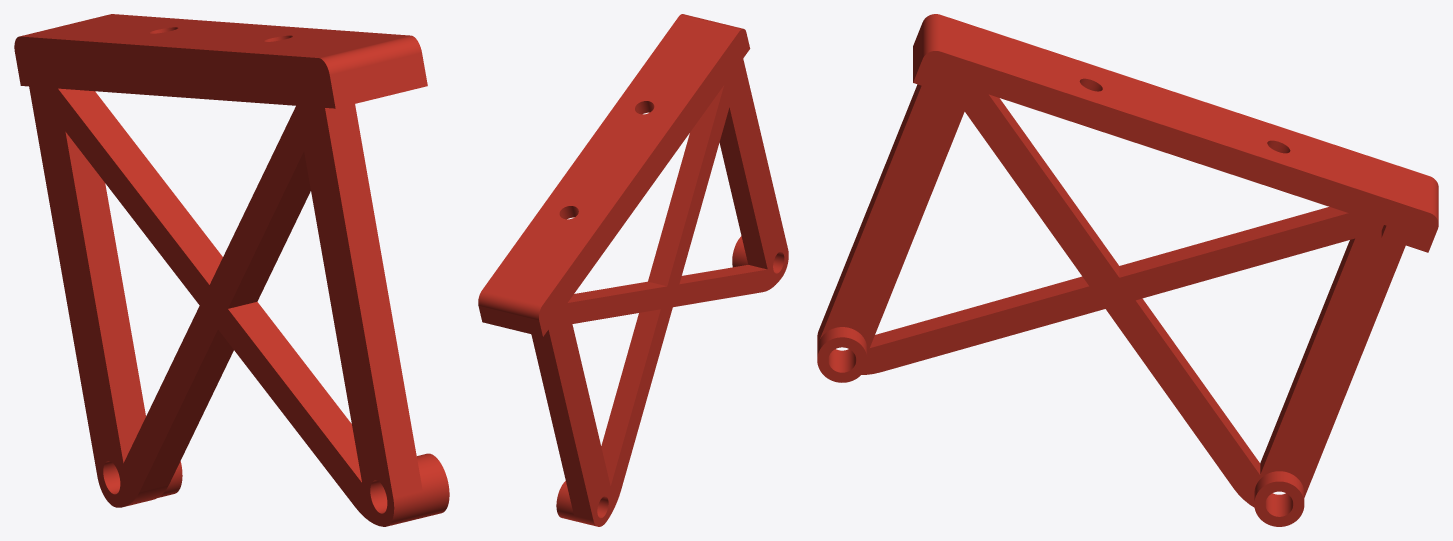
File: EBoxNewAsm_stp_1_IMC413_stp_1_RoboClawHousing_stp_1_solid1.obj
3 renders of one model, left to right at view 1: azimuth 30°, elevation 25°; view 2: azimuth 150°, elevation 25°; view 3: azimuth 270°, elevation 25°, orthographic. The views are drawn at different scales.
Visible parts, largest first — view 1: mesh12820, mesh12801, mesh12825, mesh12789, mesh12827, mesh12824, mesh12812, mesh12823, mesh12791, mesh12808, mesh12790; view 2: mesh12820, mesh12789, mesh12828, mesh12807, mesh12826, mesh12829, mesh12792, mesh12793, mesh12827, mesh12824, mesh12815; view 3: mesh12821, mesh12789, mesh12796, mesh12827, mesh12824, mesh12828, mesh12826, mesh12801, mesh12816, mesh12818, mesh12825, mesh12790.
Part boxes in pixels (box(x1,y1,x2,y2)): mesh12820: box(14, 36, 394, 526); mesh12801: box(325, 104, 422, 497); mesh12825: box(65, 132, 145, 462); mesh12789: box(20, 14, 409, 57); mesh12827: box(58, 88, 222, 284); mesh12824: box(228, 301, 361, 482); mesh12812: box(140, 330, 233, 491); mesh12823: box(228, 152, 310, 308); mesh12791: box(330, 53, 427, 108); mesh12808: box(387, 453, 449, 526); mesh12790: box(319, 35, 421, 75); mesh12820: box(539, 29, 788, 526); mesh12789: box(482, 17, 738, 305); mesh12828: box(648, 86, 723, 285); mesh12807: box(531, 330, 593, 520); mesh12826: box(601, 309, 660, 485); mesh12829: box(719, 107, 767, 269); mesh12792: box(478, 290, 542, 320); mesh12793: box(478, 306, 542, 336); mesh12827: box(568, 281, 666, 302); mesh12824: box(679, 265, 767, 284); mesh12815: box(556, 481, 596, 526); mesh12821: box(820, 86, 1405, 507); mesh12789: box(940, 15, 1429, 212); mesh12796: box(913, 51, 1438, 252); mesh12827: box(1119, 207, 1348, 277); mesh12824: box(870, 276, 1088, 347); mesh12828: box(989, 94, 1119, 276); mesh12826: box(1136, 298, 1260, 474); mesh12801: box(818, 84, 921, 341); mesh12816: box(817, 337, 867, 382); mesh12818: box(1254, 481, 1304, 526); mesh12825: box(1260, 238, 1354, 473); mesh12790: box(922, 14, 940, 58).
Size of the model in its own units: 0.0125 by 0.0777 by 0.0891.
